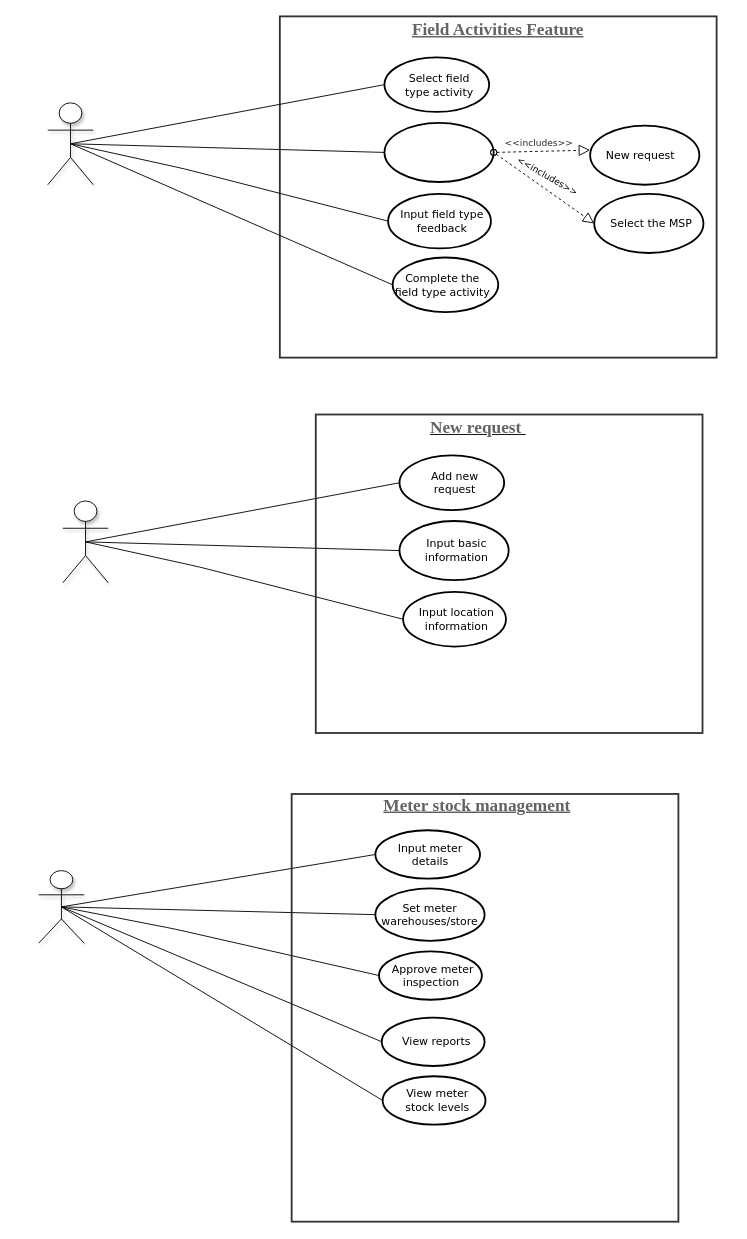
The diagram is 747 pixels wide and 1239 high, and some of its shapes have lost their labels. Here are the shapes that lost their labels. From the top down, the centre of each, then its label:
(71,144): Field activity manager
(438,151): Schedule field type activity
(86,542): Request manager
(62,908): Meter stock manager
